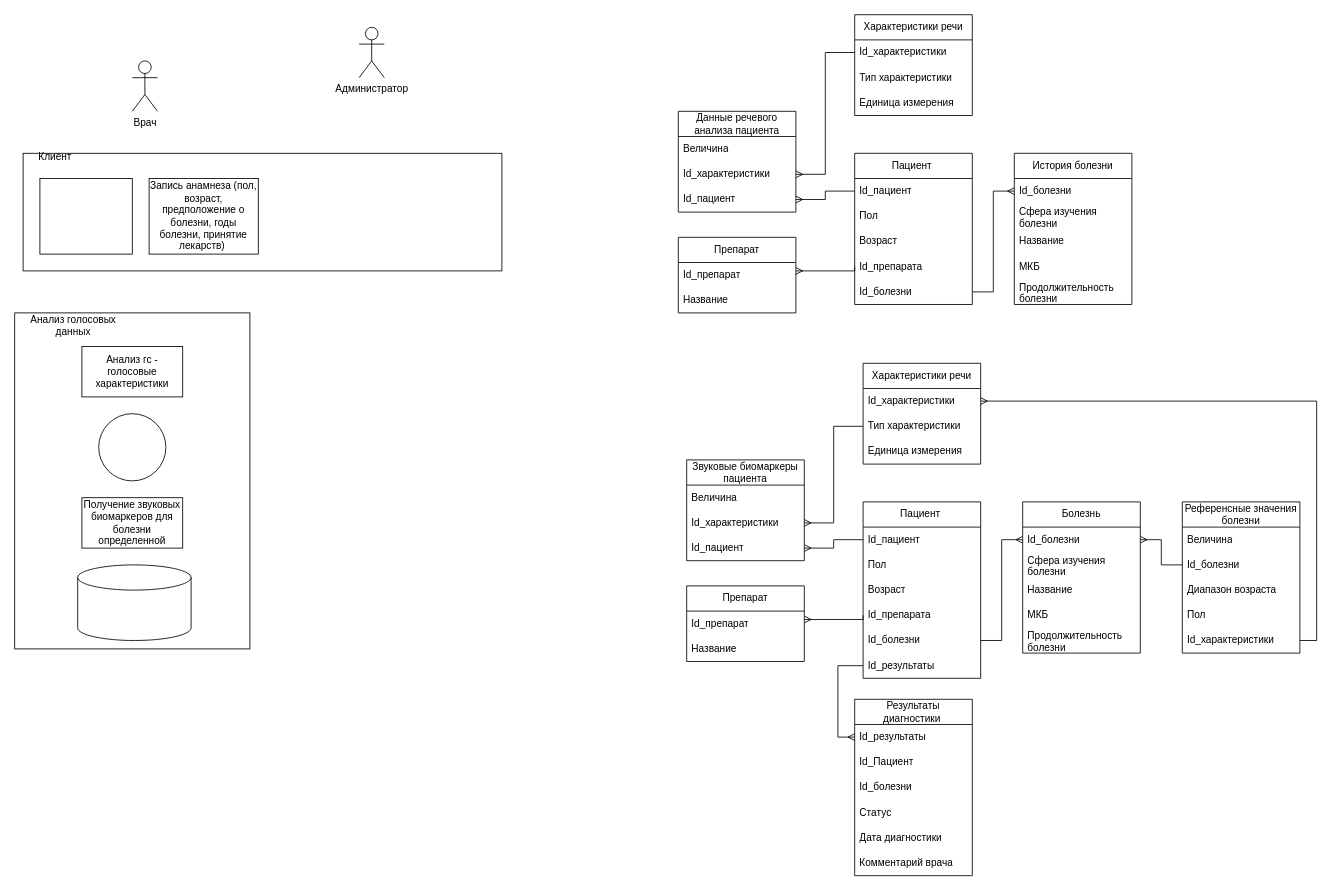
The diagram is 1338 pixels wide and 890 high, and some of its shapes have lost their labels. Each missing label, with the centre of its shape:
Добавление карточки пациента: the point at 134,602
Записывает голос пациента: the point at 85,216
Определение болезни: the point at 132,447
